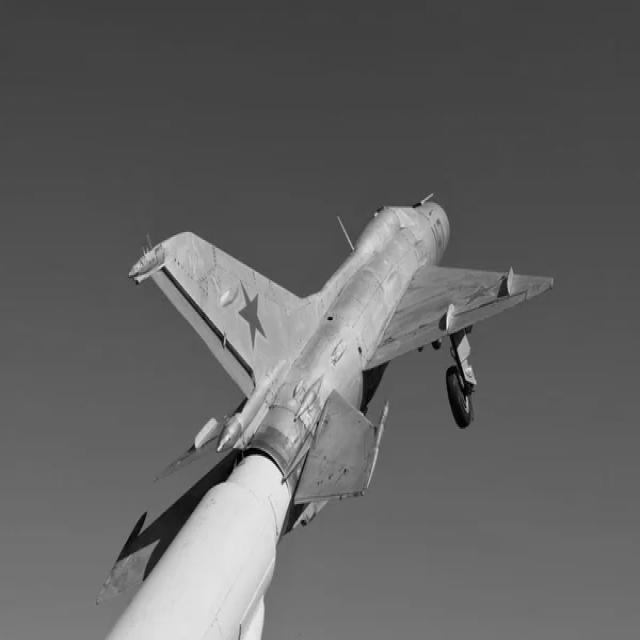Aircraft: (88, 188, 546, 636)
